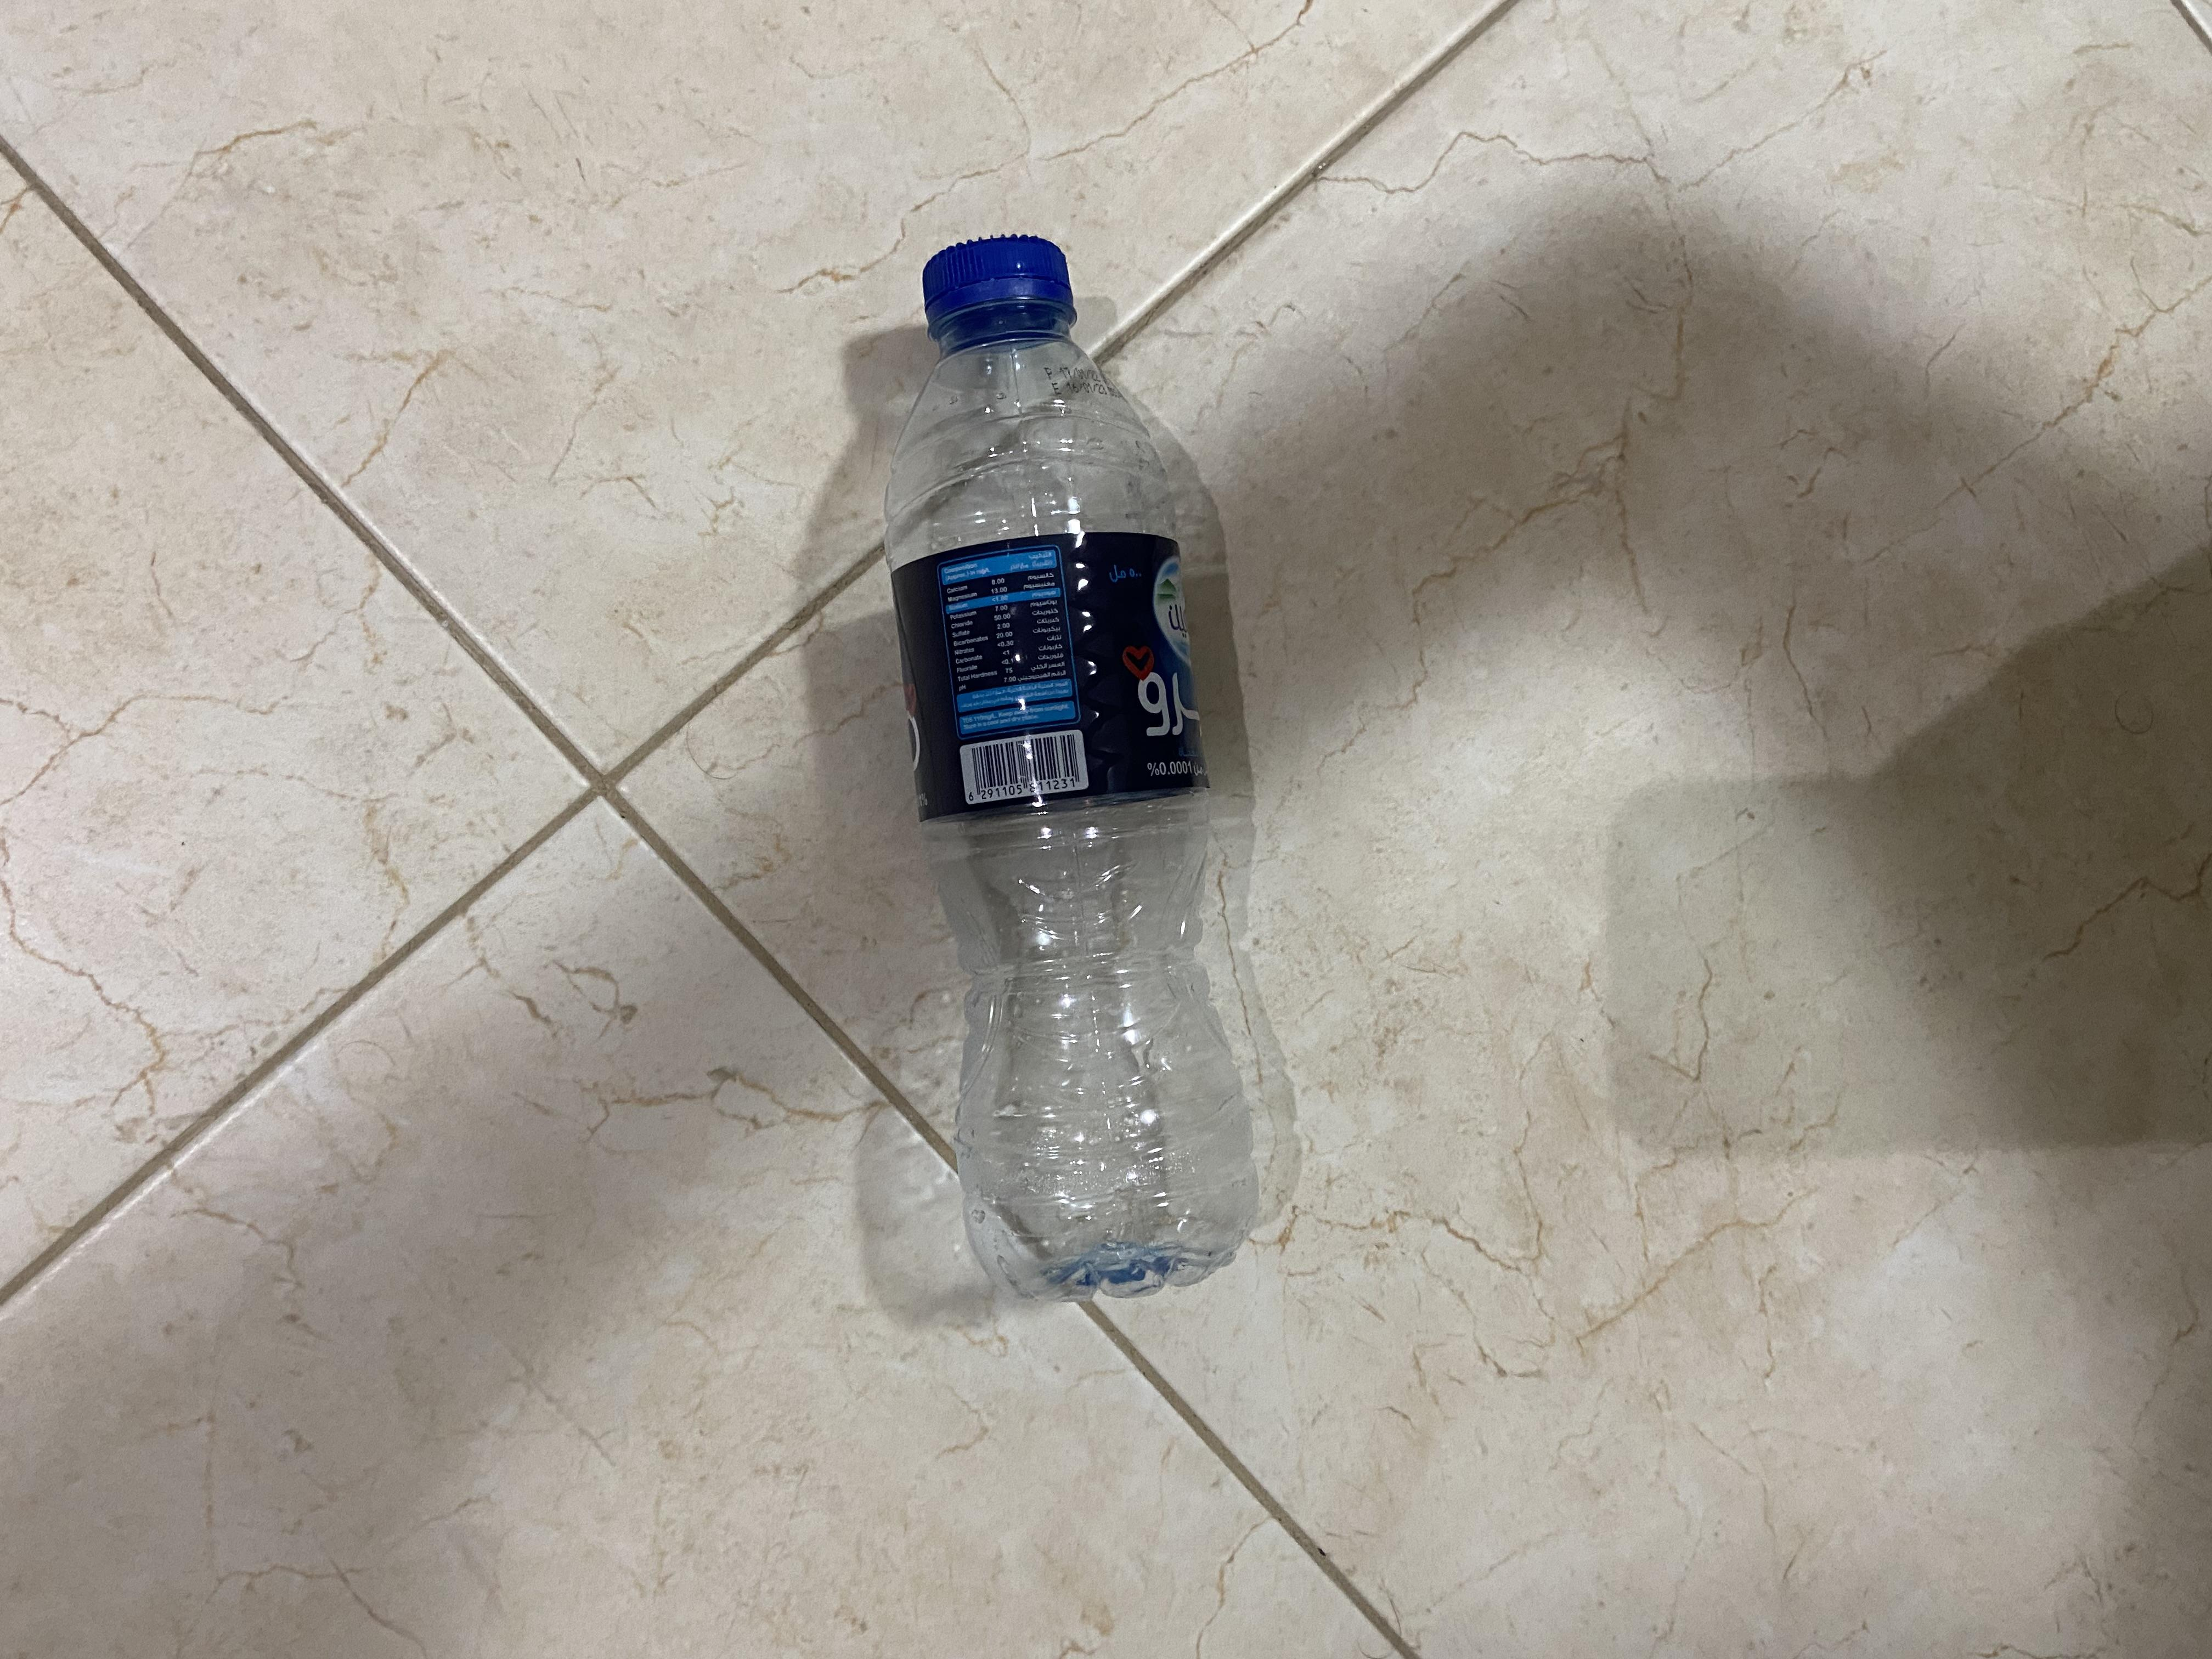bottle: (470, 652, 1919, 967)
